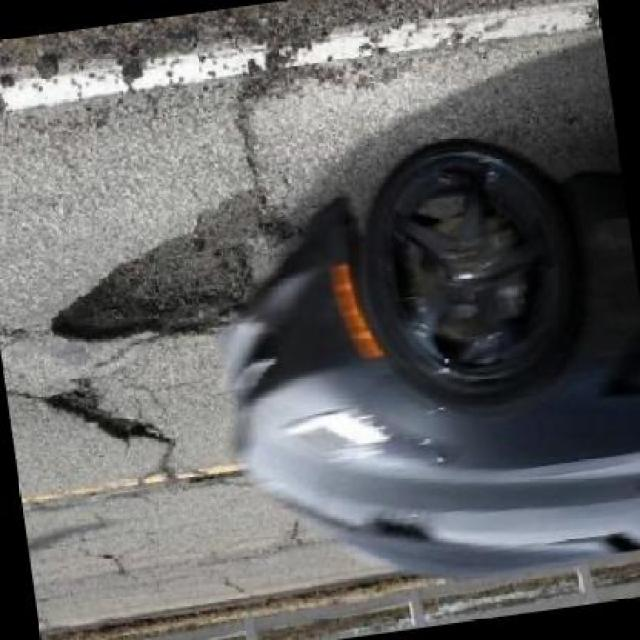pothole: (36, 186, 315, 362), (46, 375, 162, 460)
